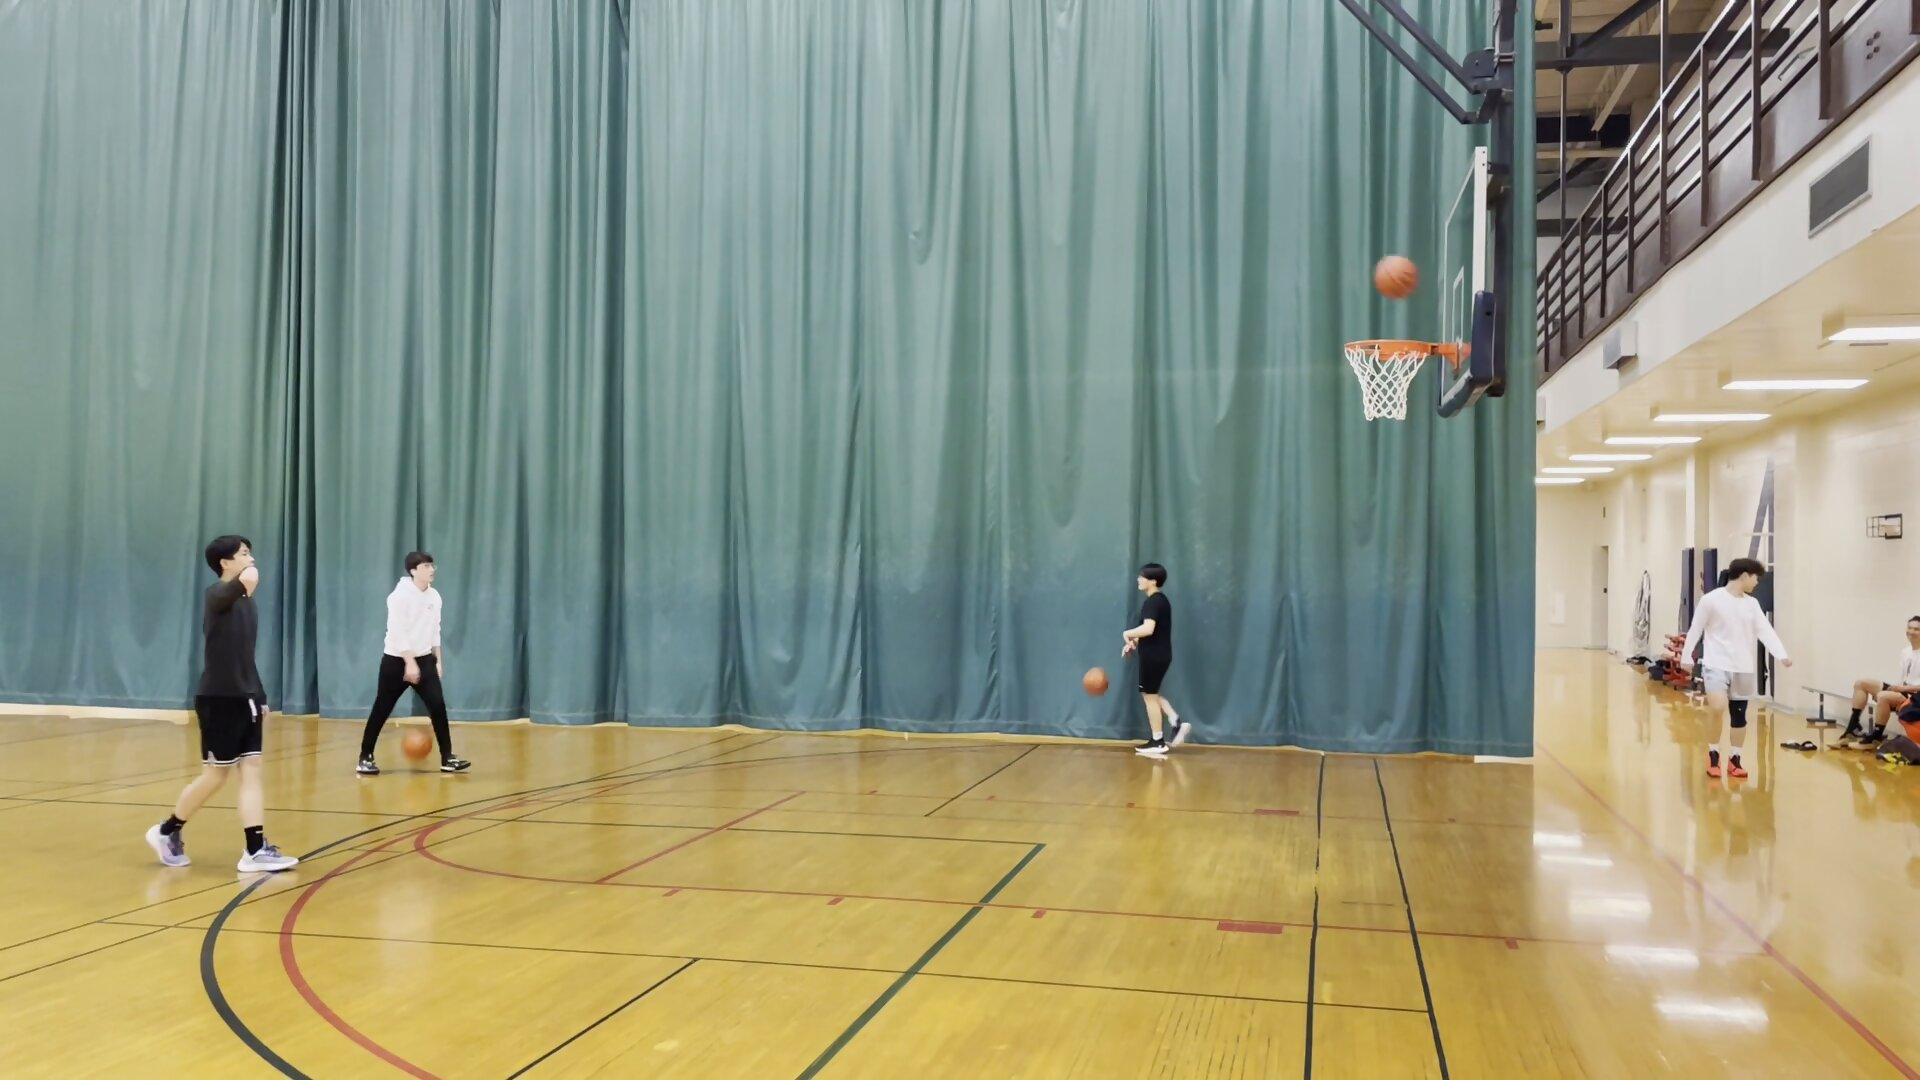ball: (1370, 257, 1422, 301), (400, 727, 436, 765), (1081, 667, 1110, 698)
net: (1354, 393, 1414, 426)
player: (167, 534, 303, 879), (360, 553, 473, 772), (1682, 558, 1784, 778), (1122, 562, 1191, 762), (1836, 614, 1920, 751)
rim: (1338, 338, 1435, 363)
